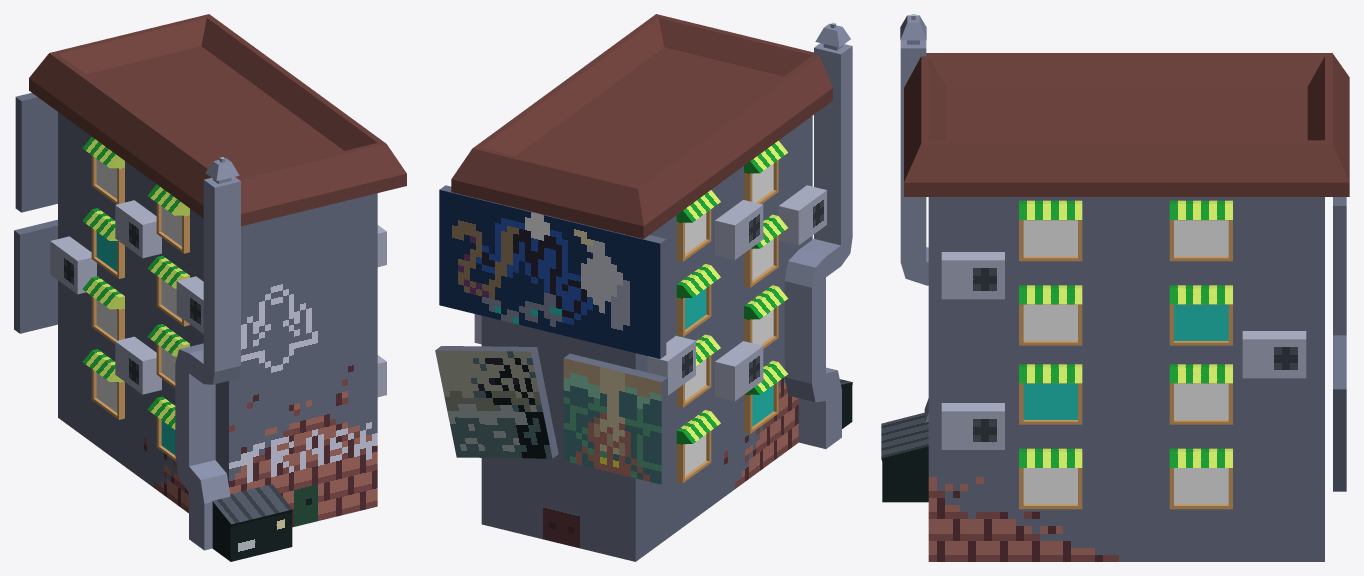
File: building5.gltf
3 renders of one model, left to right at view 1: azimuth 30°, elevation 25°; view 2: azimuth 150°, elevation 25°; view 3: azimuth 270°, elevation 25°, orthographic. The views are drawn at different scales.
Parts seen in each view (by area): view 1: cuboid (×17); view 2: cuboid (×17); view 3: cuboid (×16).
Part boxes in pixels (x1,y1,x2,y2): cuboid (×17): (14, 14, 406, 561); cuboid (×17): (435, 14, 852, 561); cuboid (×16): (881, 14, 1349, 561).
Size of the model in its own units: 2.31 by 3.96 by 3.69.
Materials: 2 (2 with a texture image).
